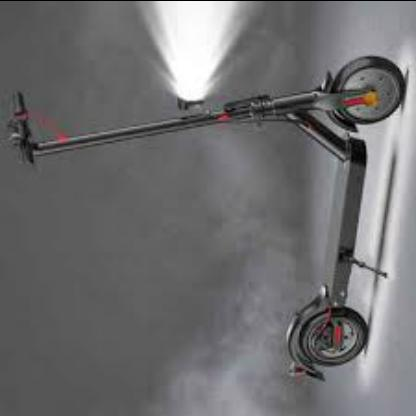bike: (3, 55, 407, 403), (8, 55, 406, 165)
